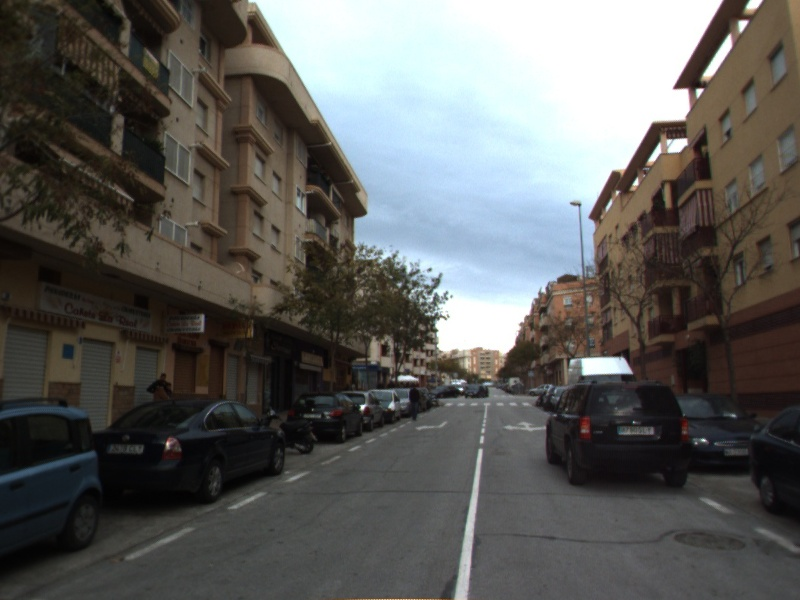STRAIGHT_LEFT_RIGHT: (500, 419, 549, 433)
